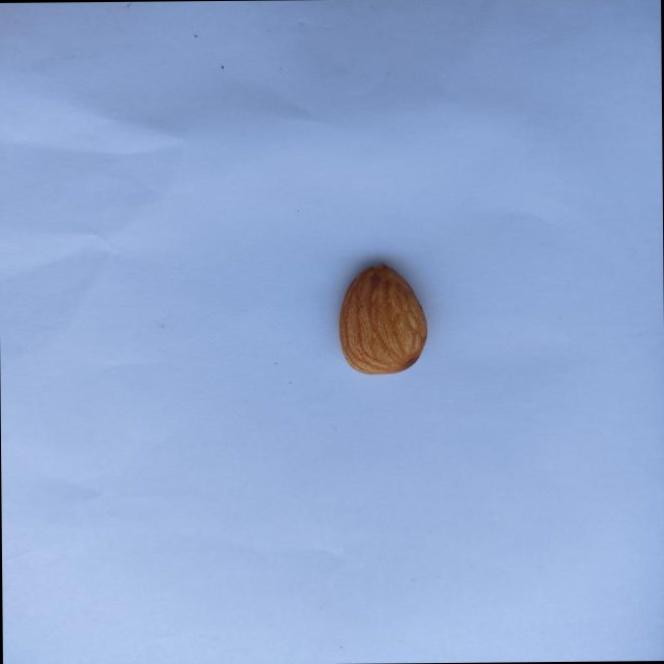grade1: (328, 255, 434, 382)
